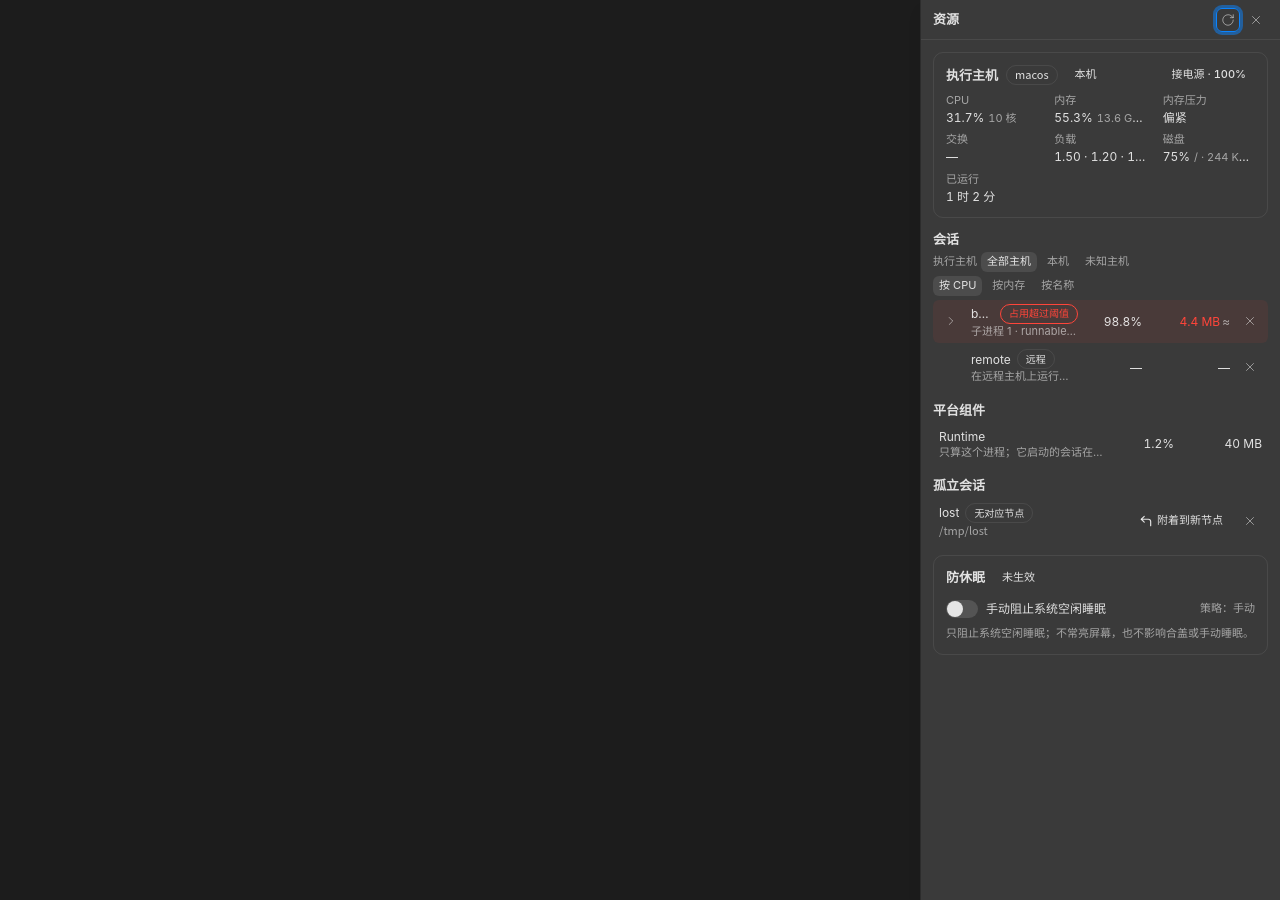
Test: ResourceDrawer › 会话可以展开进程树，超过阈值的行高亮
Expected: the text "占用超过阈值" is shown, [1000, 304, 1078, 324]
Expected: the text "pid 101" is not shown
Click the button named "展开进程树" at (951, 322), box [939, 310, 963, 334]
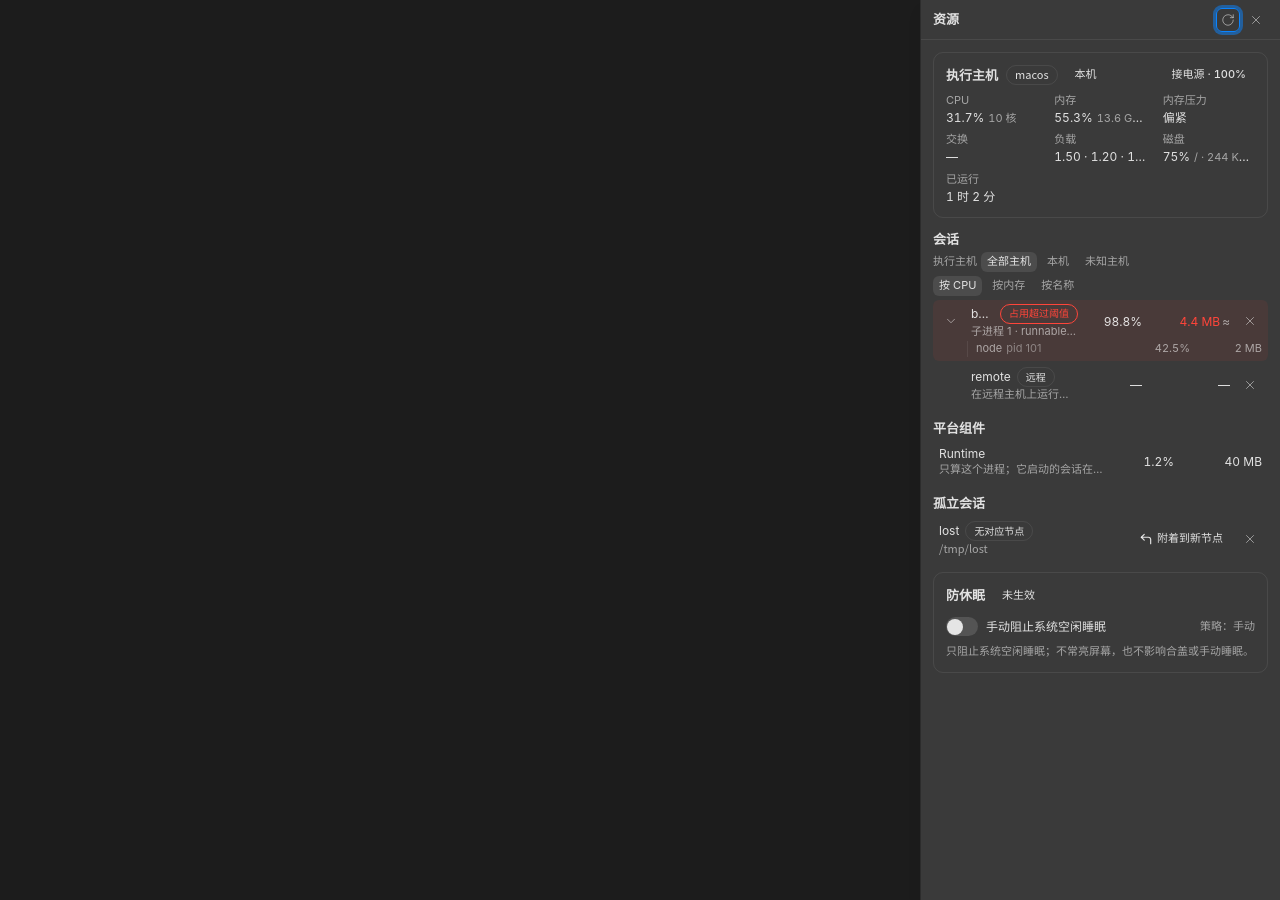
Expected: the text "pid 101" is shown, [1006, 341, 1041, 355]
Expected: the text "node" is shown, [976, 341, 1002, 355]
Expected: the text "2 MB" is shown, [1235, 341, 1262, 355]
